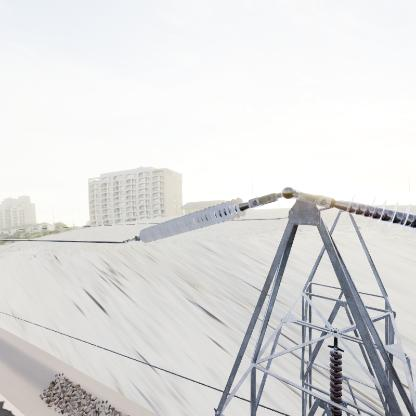insulator: (136, 196, 249, 243)
